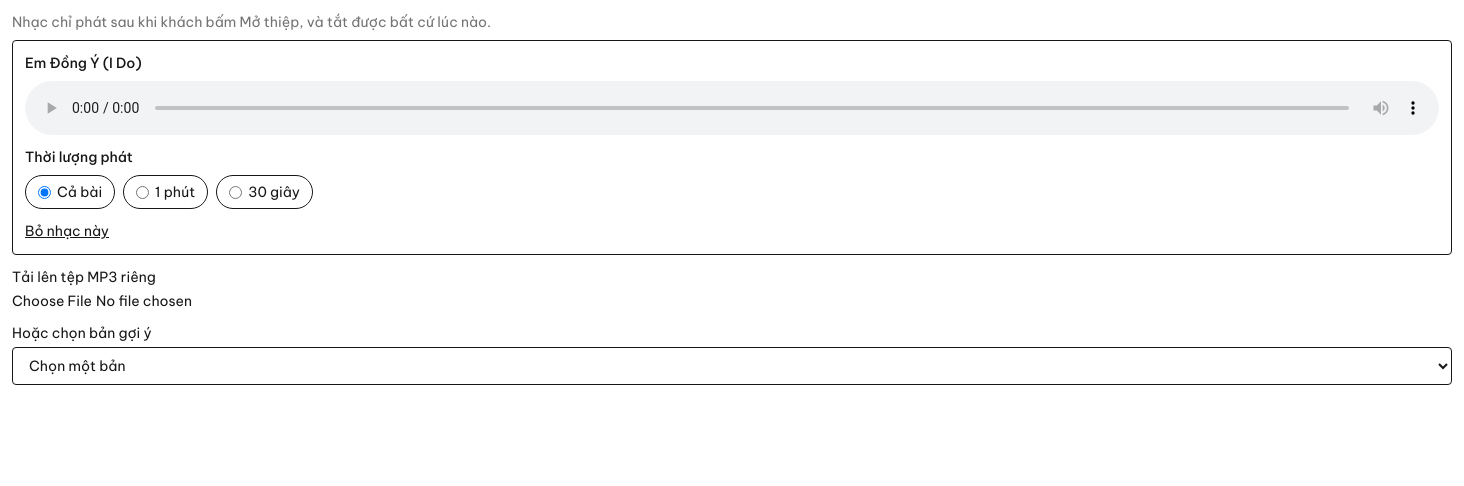
ONhac › chọn đoạn 30 giây và lưu điểm bắt đầu từ thanh thời gian
The width and height of the screenshot is (1464, 486).
Step 1. Click the radio button labelled "30 giây" → (236,192), box [229, 186, 242, 198]
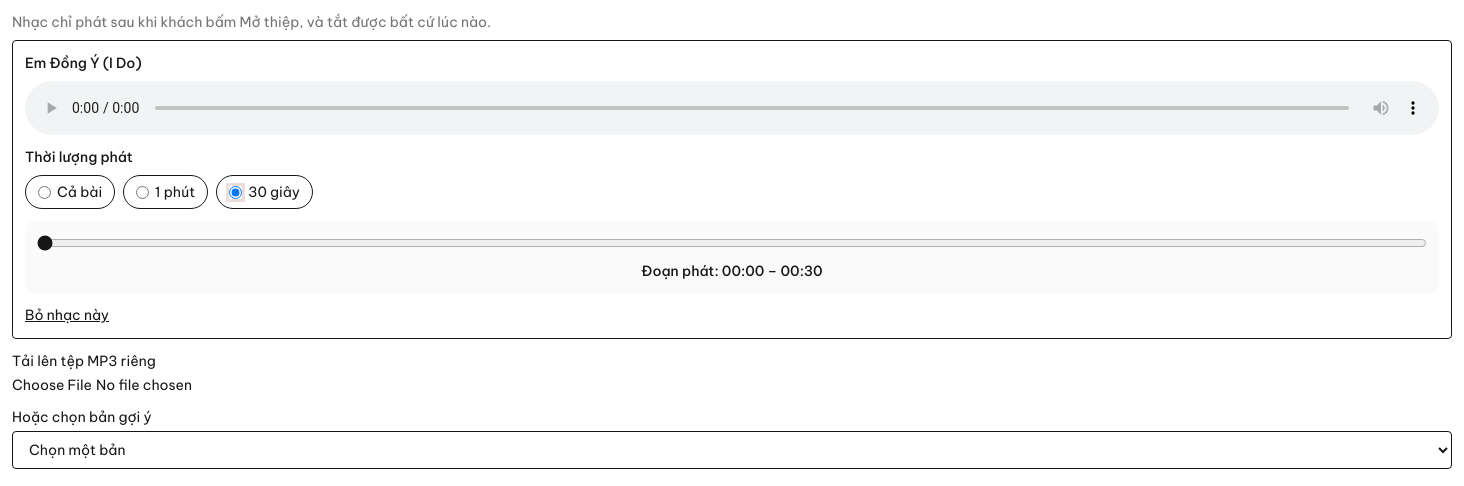
Step 2. Set the slider named "Điểm bắt đầu đoạn nhạc" to "80" → (692,243), box [37, 235, 1427, 251]
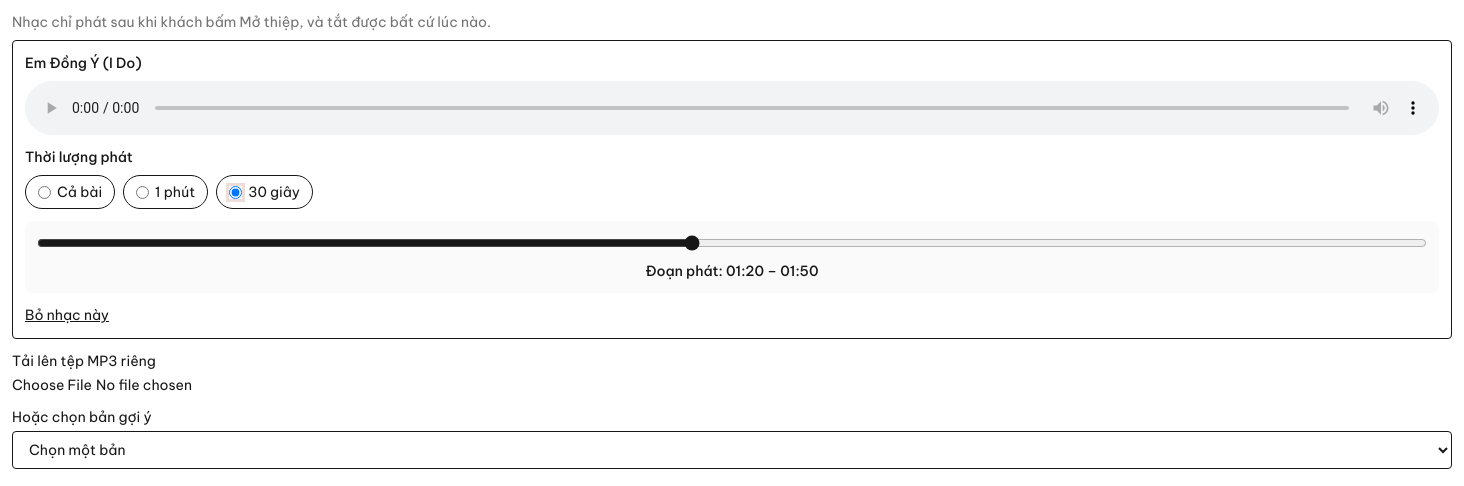
Result: the text "Đoạn phát: 01:20 – 01:50" is shown at [646, 262, 819, 280]
